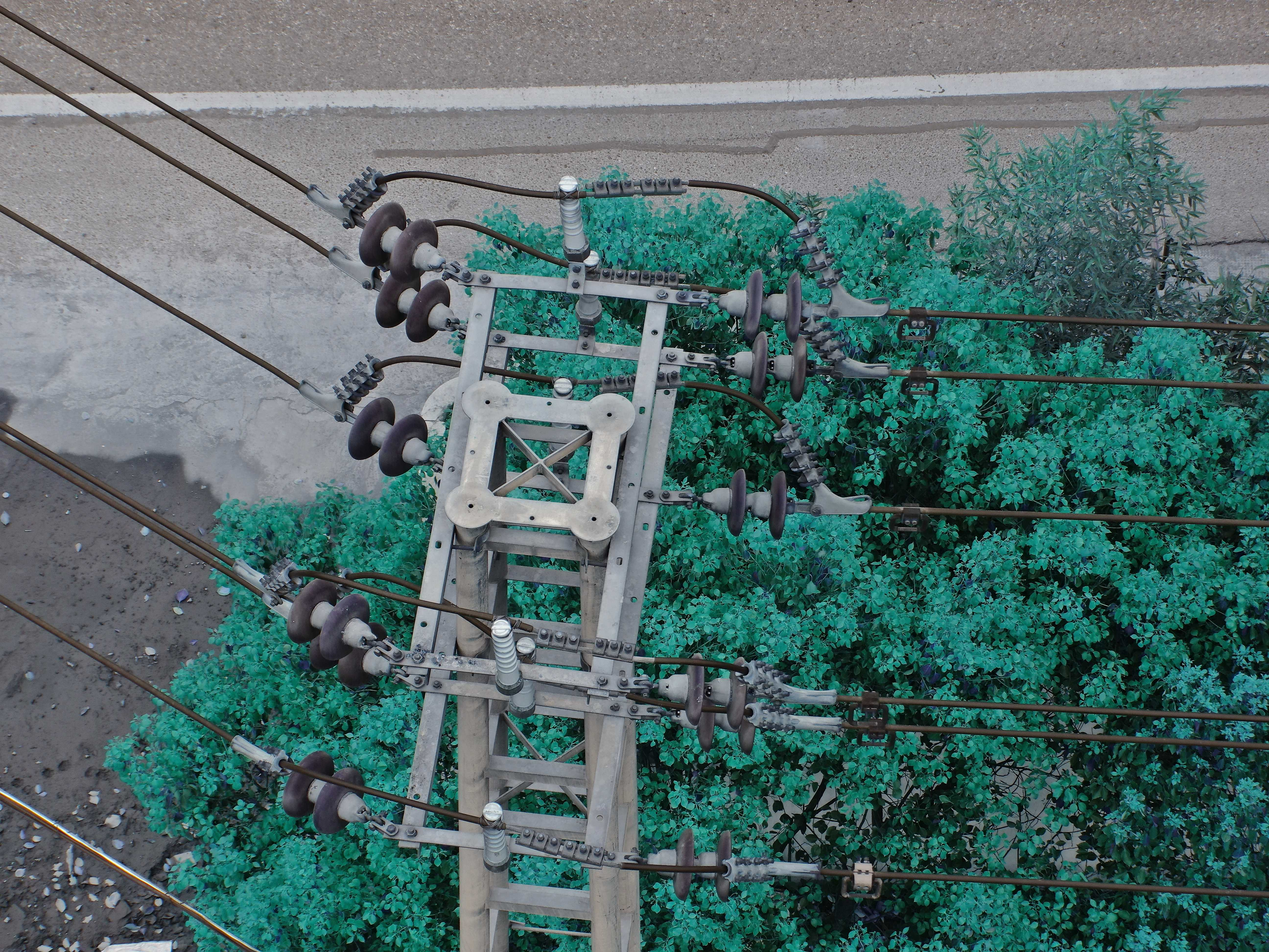severe_soiling_no_discharge_whole: (281, 573, 380, 663), (653, 646, 755, 732), (276, 744, 373, 834), (644, 821, 735, 907), (721, 327, 814, 406), (665, 689, 757, 760)
